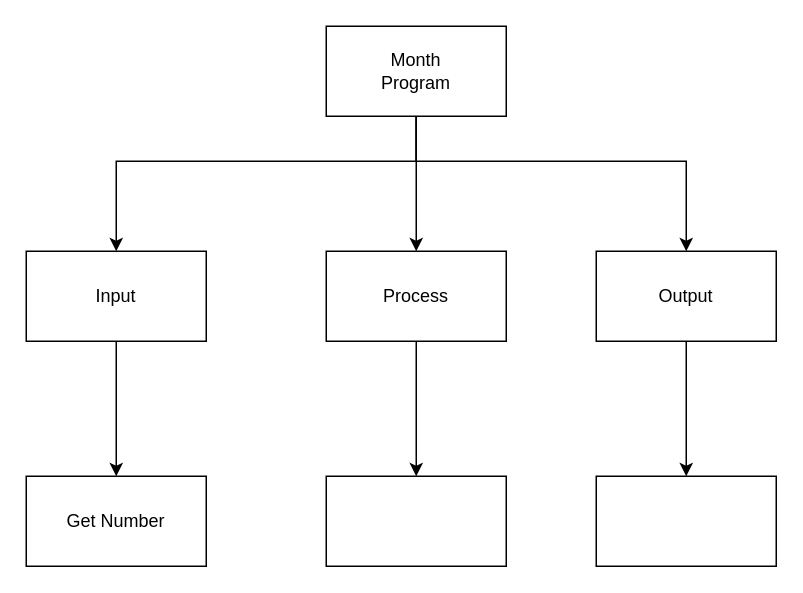
Image size: 803x593. Some labels were removed from this diagram. The centre of each missing label's shape, as x and y in pixels:
"Check if number is 1-12" belongs at point 415,520.
"Show Month" belongs at point 685,520.
